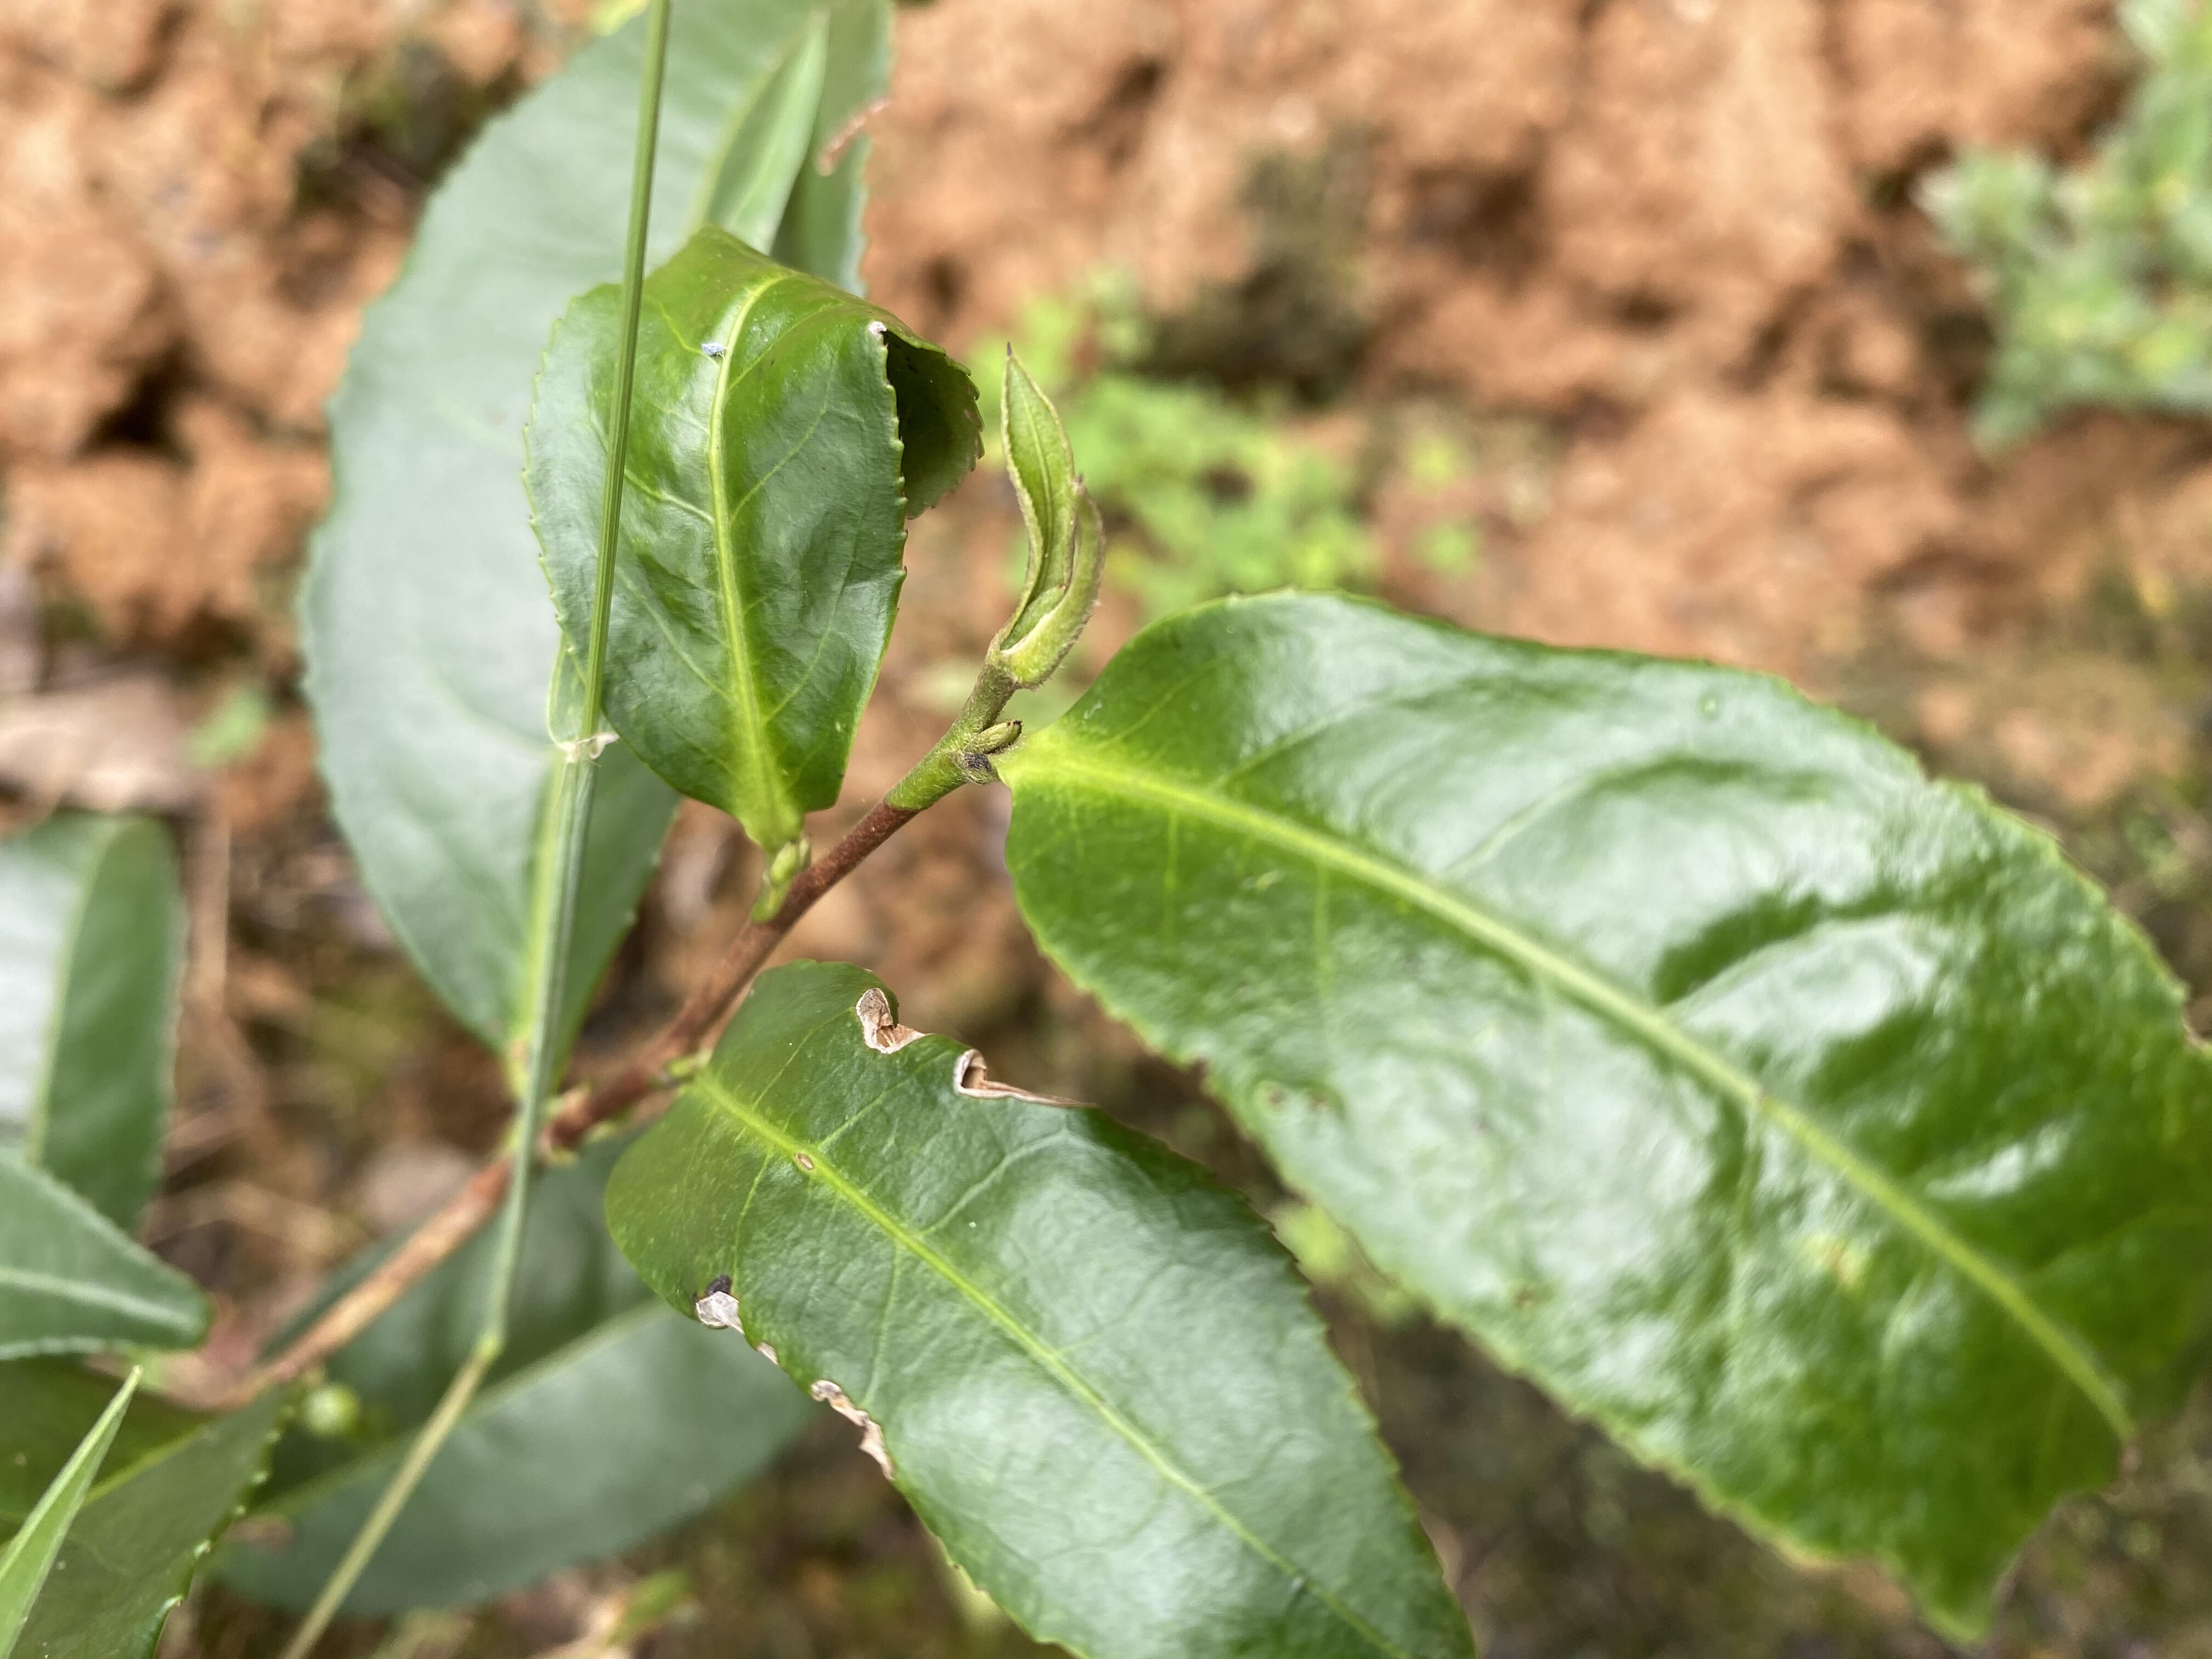chihuo_low: (1008, 586, 2209, 1636)
tanju_high: (601, 960, 1470, 1657)
